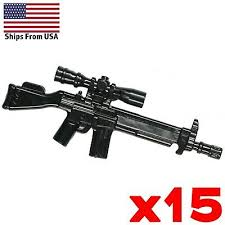gun: (2, 62, 223, 173)
